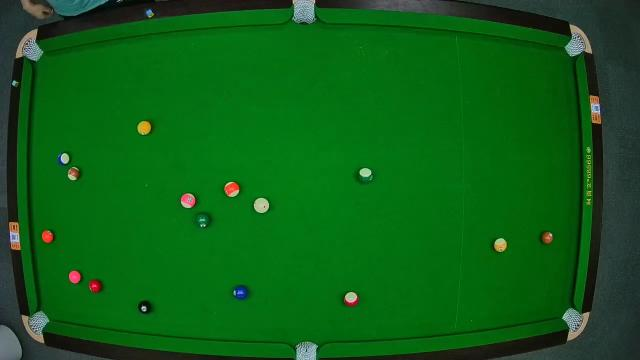bag1: (22, 40, 40, 60)
bag2: (292, 1, 316, 26)
bag3: (567, 34, 587, 58)
bag4: (27, 309, 49, 335)
bag5: (294, 338, 318, 360)
bag6: (562, 309, 582, 331)
ball0: (253, 197, 270, 214)
ball1: (136, 122, 152, 136)
ball10: (57, 152, 71, 166)
ball11: (344, 290, 360, 306)
ball12: (180, 192, 197, 210)
ball13: (224, 182, 240, 198)
ball14: (356, 168, 374, 184)
ball15: (68, 167, 80, 181)
ball2: (233, 284, 249, 300)
ball3: (90, 279, 102, 293)
ball4: (68, 270, 82, 283)
ball5: (42, 228, 54, 244)
ball6: (196, 212, 210, 229)
ball7: (539, 230, 553, 246)
ball8: (138, 300, 152, 314)
ball9: (494, 238, 508, 253)
